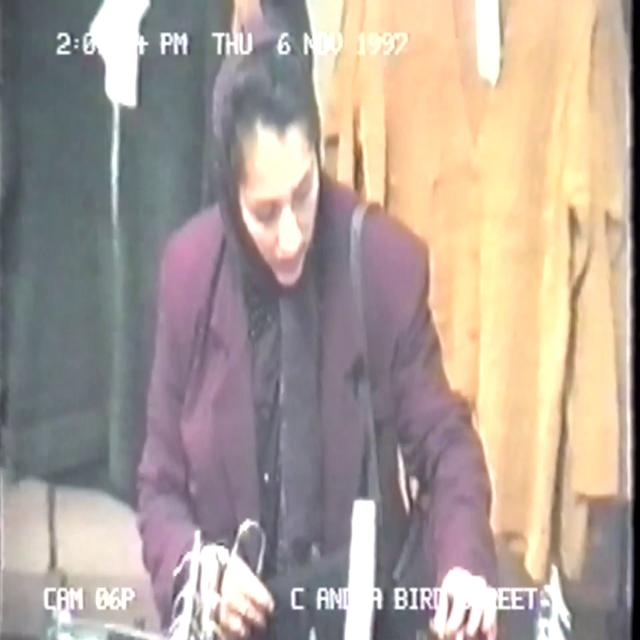Product: (201, 518, 300, 606)
shoplifting: (62, 0, 533, 640)
